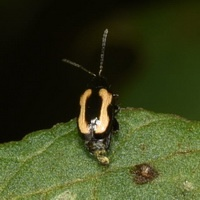insect: (62, 29, 118, 164)
